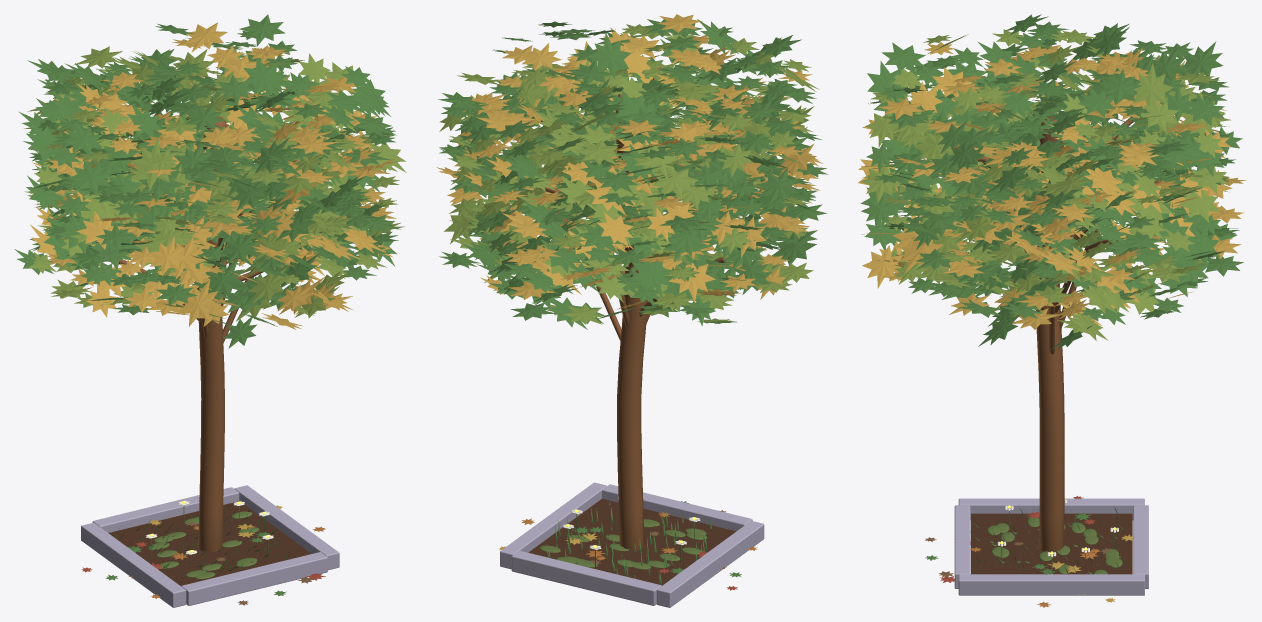
The model's file is tree_1.glb.
3 views of the same model, side by side, from view 1: azimuth 30°, elevation 25°; view 2: azimuth 150°, elevation 25°; view 3: azimuth 270°, elevation 25° (orthographic). The views are drawn at different scales.
Parts seen in each view (by area): view 1: Textured_soil, Trunk, Pit_border.003, Pit_border, Pit_border.001, Pit_border.002, Maple_leaf.953, Maple_leaf.039, Maple_leaf.500, Maple_leaf.466, Maple_leaf.883, Maple_leaf.606 (+16 smaller); view 2: Textured_soil, Trunk, Pit_border.002, Pit_border, Pit_border.001, Pit_border.003, Maple_leaf.074, Maple_leaf.407, Maple_leaf.592, Maple_leaf.038, Maple_leaf.347, Maple_leaf.885 (+10 smaller); view 3: Textured_soil, Trunk, Pit_border.001, Pit_border, Pit_border.003, Pit_border.002, Maple_leaf.992, Maple_leaf.429, Maple_leaf.498, Maple_leaf.1076, Maple_leaf.694, Maple_leaf.120 (+14 smaller).
Part boxes in pixels (x1,y1,x2,y2): Textured_soil: [108, 501, 311, 585]; Trunk: [198, 116, 226, 552]; Pit_border.003: [181, 552, 327, 605]; Pit_border: [81, 522, 186, 607]; Pit_border.001: [234, 485, 339, 570]; Pit_border.002: [92, 487, 239, 532]; Maple_leaf.953: [177, 278, 220, 326]; Maple_leaf.039: [243, 57, 286, 95]; Maple_leaf.500: [130, 137, 177, 191]; Maple_leaf.466: [201, 258, 244, 297]; Maple_leaf.883: [67, 161, 112, 195]; Maple_leaf.606: [26, 120, 65, 162]; Textured_soil: [528, 498, 735, 585]; Trunk: [615, 110, 647, 550]; Pit_border.002: [511, 550, 661, 605]; Pit_border: [656, 520, 764, 607]; Pit_border.001: [500, 482, 606, 569]; Pit_border.003: [602, 484, 752, 531]; Maple_leaf.074: [588, 32, 631, 79]; Maple_leaf.407: [632, 250, 671, 297]; Maple_leaf.592: [651, 167, 698, 200]; Maple_leaf.038: [757, 168, 799, 207]; Maple_leaf.347: [771, 230, 816, 269]; Maple_leaf.885: [668, 263, 715, 302]; Textured_soil: [971, 513, 1132, 574]; Trunk: [1036, 117, 1064, 552]; Pit_border.001: [958, 574, 1144, 595]; Pit_border: [958, 498, 1144, 519]; Pit_border.003: [954, 505, 970, 588]; Pit_border.002: [1133, 505, 1148, 588]; Maple_leaf.992: [1133, 63, 1173, 106]; Maple_leaf.429: [862, 245, 903, 288]; Maple_leaf.498: [1182, 41, 1223, 76]; Maple_leaf.1076: [1178, 190, 1220, 222]; Maple_leaf.694: [882, 42, 925, 75]; Maple_leaf.120: [1141, 95, 1178, 131].
Bounding box in the file's own units: 3.03 × 4.05 × 2.97.
